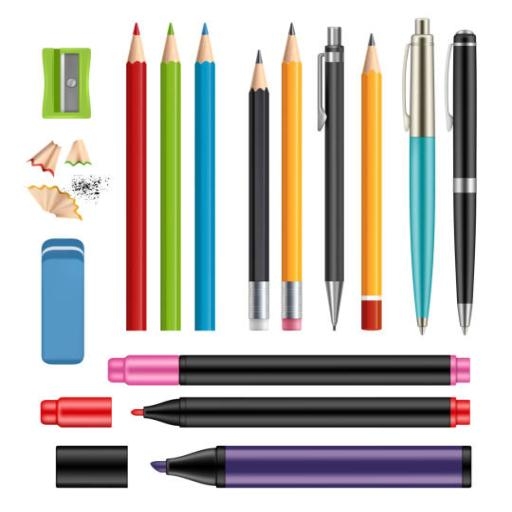pena: (399, 17, 440, 340), (445, 26, 485, 337), (314, 20, 352, 335)
penghapus: (34, 236, 92, 370)
pensil: (188, 18, 226, 337), (120, 19, 152, 335), (156, 19, 185, 335), (243, 46, 274, 334), (280, 21, 308, 335), (360, 32, 386, 332)
rautan: (37, 41, 97, 125)
spidol: (50, 444, 482, 494), (28, 396, 494, 434), (103, 349, 481, 395)
